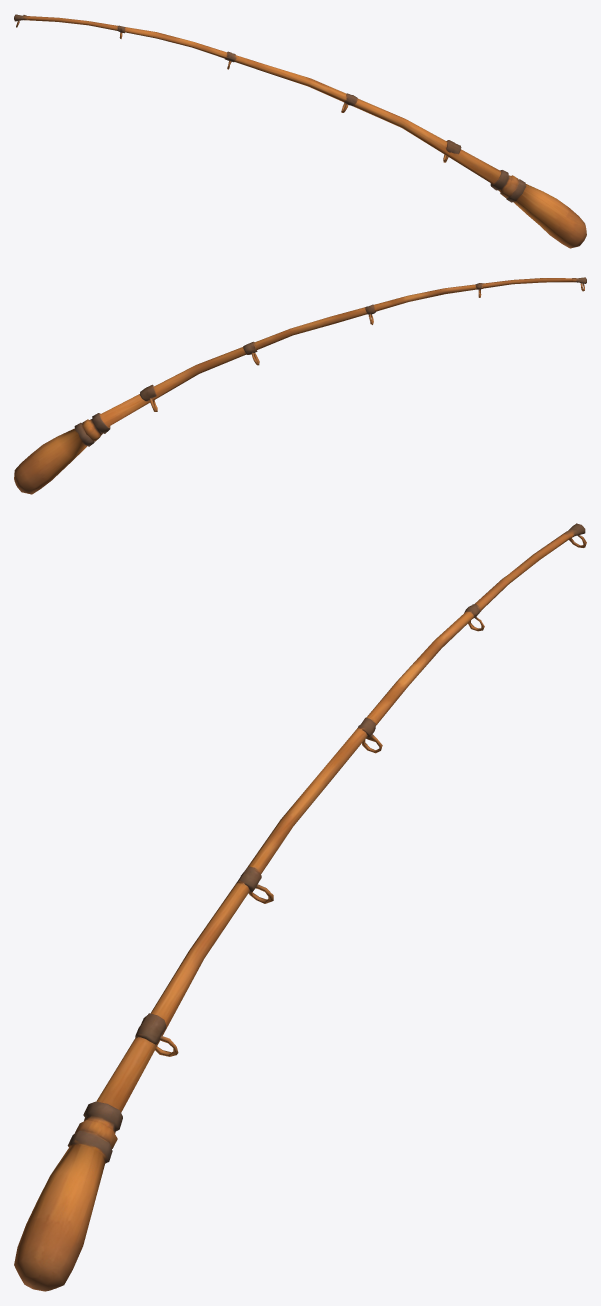
The model's file is fishing_rod.glb.
3 views of the same model, one above another, from view 1: azimuth 30°, elevation 25°; view 2: azimuth 210°, elevation 25°; view 3: azimuth 270°, elevation 25° (orthographic). The views are drawn at different scales.
Visible parts, largest first — view 1: tripo_node_174b1bf2-e947-459a-8b43-668f781599f6; view 2: tripo_node_174b1bf2-e947-459a-8b43-668f781599f6; view 3: tripo_node_174b1bf2-e947-459a-8b43-668f781599f6.
Part boxes in pixels (x1=…): tripo_node_174b1bf2-e947-459a-8b43-668f781599f6: x1=14, y1=14, x2=586, y2=248; tripo_node_174b1bf2-e947-459a-8b43-668f781599f6: x1=14, y1=277, x2=586, y2=494; tripo_node_174b1bf2-e947-459a-8b43-668f781599f6: x1=14, y1=523, x2=586, y2=1291.
Size of the model in its own units: 0.998 by 0.502 by 0.6465.
Materials: 1 (1 with a texture image).
